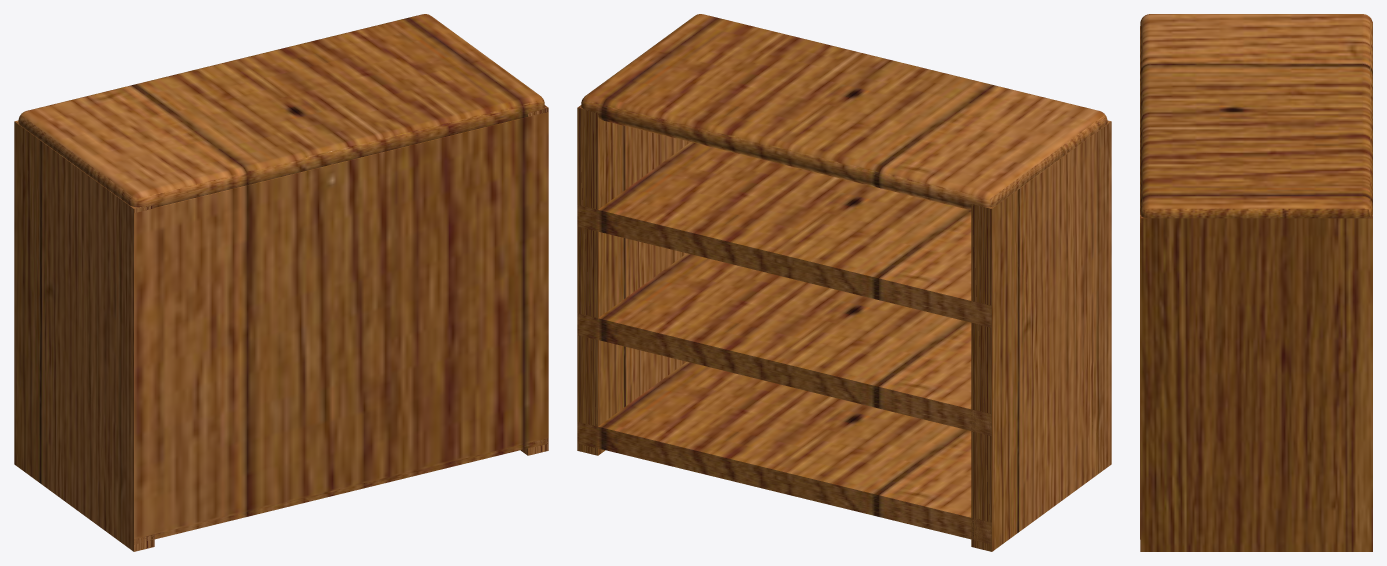
The model's file is Bookshelf.fbx.
3 renders of one model, left to right at view 1: azimuth 30°, elevation 25°; view 2: azimuth 150°, elevation 25°; view 3: azimuth 270°, elevation 25°, orthographic. The views are drawn at different scales.
Visible parts, largest first — view 1: polySurface3, polySurface6, polySurface1, pCube1; view 2: polySurface6, polySurface1, pCube3, pCube2, pCube1, polySurface4; view 3: polySurface4, polySurface6, polySurface3.
Boxes of the visible parts, <box> form: polySurface3: <box>134,112,548,538</box>; polySurface6: <box>18,14,544,207</box>; polySurface1: <box>14,120,154,551</box>; pCube1: <box>134,439,546,543</box>; polySurface6: <box>581,14,1107,210</box>; polySurface1: <box>971,120,1111,551</box>; pCube3: <box>577,142,991,327</box>; pCube2: <box>577,253,991,435</box>; pCube1: <box>577,361,991,544</box>; polySurface4: <box>577,105,690,455</box>; polySurface4: <box>1140,214,1372,551</box>; polySurface6: <box>1140,14,1372,218</box>; polySurface3: <box>1140,26,1140,539</box>.
Bounding box in the file's own units: 2 × 1.63 × 1.
2 materials, 2 textured.
